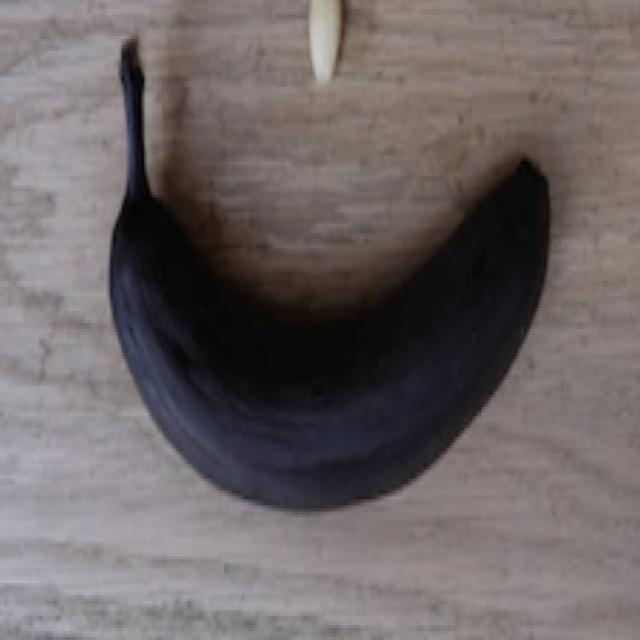Rotten: (78, 29, 560, 543)
